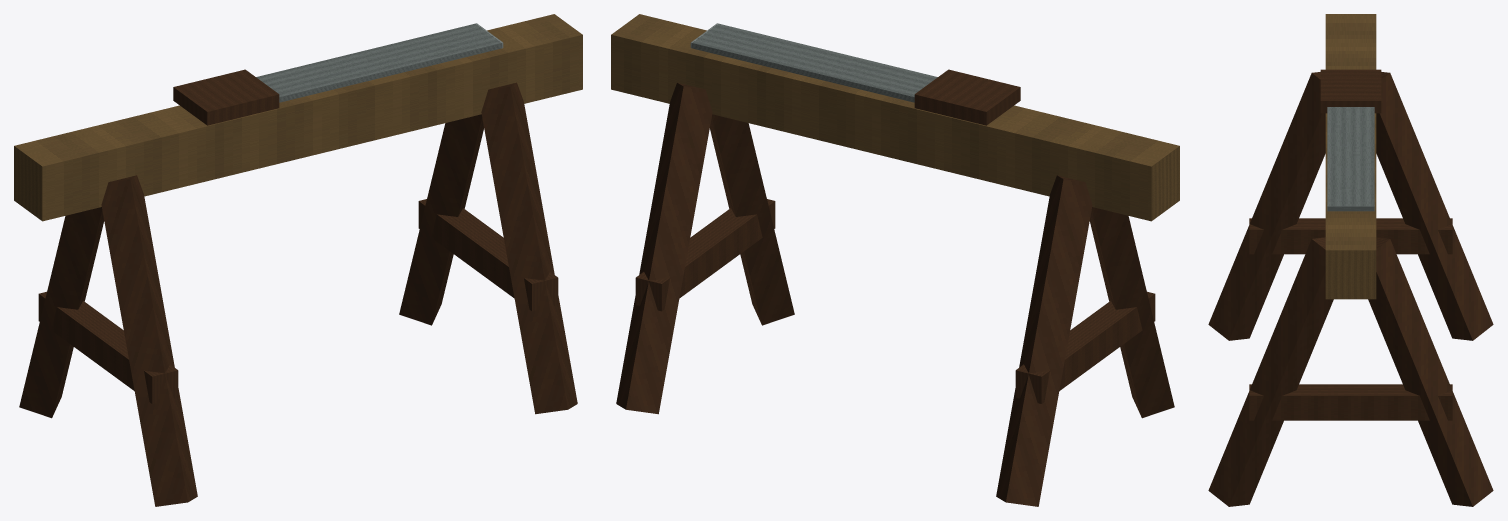
The model's file is level_camp_sawhorse.glb.
The picture shows the model from 3 angles, left to right: view 1: azimuth 30°, elevation 25°; view 2: azimuth 150°, elevation 25°; view 3: azimuth 270°, elevation 25°; orthographic projection. The views are drawn at different scales.
Visible parts, largest first — view 1: level_camp_sawhorse; view 2: level_camp_sawhorse; view 3: level_camp_sawhorse.
Boxes of the visible parts, x1,y1,x2,y2 form: level_camp_sawhorse: (14, 14, 582, 506); level_camp_sawhorse: (611, 14, 1179, 506); level_camp_sawhorse: (1208, 14, 1493, 506).
Size of the model in its own units: 1.65 by 0.9927 by 0.8418.
3 materials, 3 textured.
